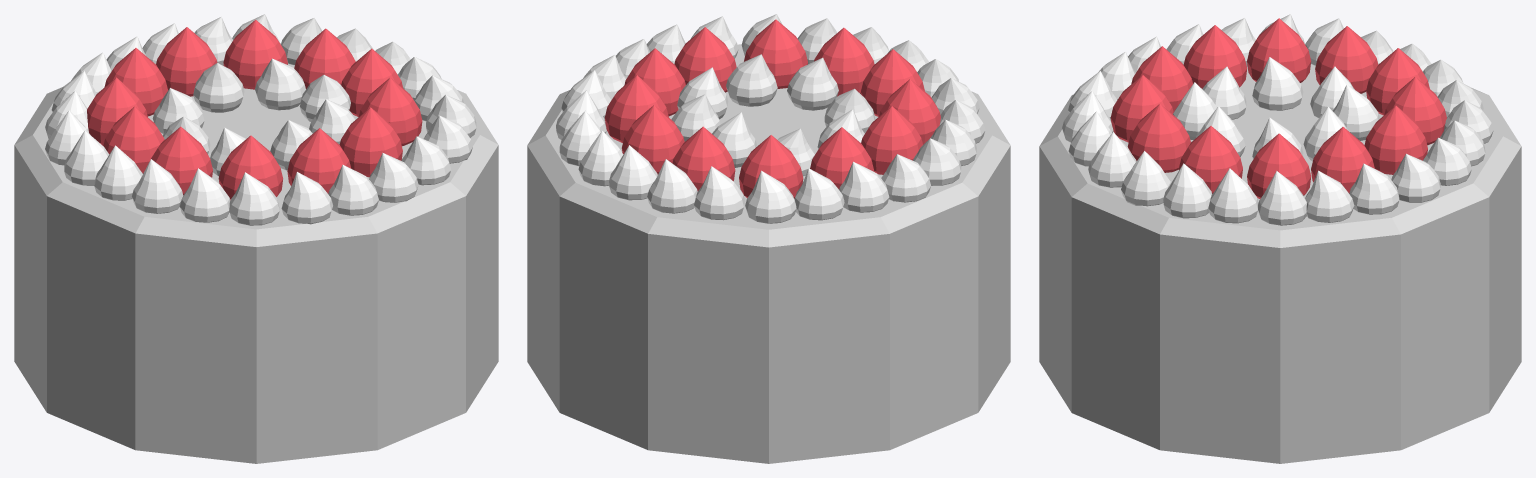
The model's file is cake.glb.
3 views of the same model, side by side, from view 1: azimuth 30°, elevation 25°; view 2: azimuth 150°, elevation 25°; view 3: azimuth 270°, elevation 25° (orthographic).
Parts seen in each view (by area): view 1: New_Game_Object, New_Game_Object_Clone__Clone__Clone__Clone__Clone__Clon_f37. (×3), New_Game_Object_Clone__Clone__Clone__Clone__Clone__Clon_852. (×2), New_Game_Object_Clone__Clone__Clone_.005, New_Game_Object_Clone__Clone__Clone_.002, New_Game_Object_Clone__Clone__Clone__Clone_.002, New_Game_Object_Clone__Clone__Clone_.003, New_Game_Object_Clone__Clone_.003, New_Game_Object_Clone__Clone_.004, New_Game_Object_Clone__Clone_.002, New_Game_Object_Clone__Clone__Clone__Clone__Clone_.002, New_Game_Object_Clone__Clone__Clone__Clone_.003 (+27 smaller); view 2: New_Game_Object, New_Game_Object_Clone__Clone__Clone__Clone__Clone__Clon_f37. (×3), New_Game_Object_Clone__Clone_.002, New_Game_Object_Clone__Clone__Clone__Clone__Clone__Clon_8b1. (×2), New_Game_Object_Clone__Clone__Clone__Clone_.002, New_Game_Object_Clone__Clone__Clone_.005, New_Game_Object_Clone__Clone__Clone__Clone_.004, New_Game_Object_Clone__Clone_.003, New_Game_Object_Clone__Clone_.004, New_Game_Object_Clone__Clone__Clone_.002, New_Game_Object_Clone__Clone__Clone__Clone__Clone__Clon_852. (×2), New_Game_Object_Clone__Clone__Clone__Clone__Clone_.002 (+28 smaller); view 3: New_Game_Object, New_Game_Object_Clone__Clone__Clone__Clone__Clone__Clon_f37. (×3), New_Game_Object_Clone__Clone__Clone__Clone_.002, New_Game_Object_Clone__Clone__Clone_.005, New_Game_Object_Clone__Clone__Clone_.004, New_Game_Object_Clone__Clone_.002, New_Game_Object_Clone__Clone__Clone__Clone_.003, New_Game_Object_Clone_.002, New_Game_Object_Clone__Clone_.004, New_Game_Object_Clone__Clone__Clone__Clone__Clone_.002, New_Game_Object_Clone__Clone__Clone__Clone__Clone__Clon_852. (×2), New_Game_Object_Clone__Clone__Clone_.002 (+27 smaller).
Part boxes in pixels (<box>): New_Game_Object: <box>14,43,498,463</box>; New_Game_Object_Clone__Clone__Clone__Clone__Clone__Clon_f37. (×3): <box>162,63,355,153</box>; New_Game_Object_Clone__Clone__Clone__Clone__Clone__Clon_852. (×2): <box>152,58,305,133</box>; New_Game_Object_Clone__Clone__Clone_.005: <box>339,107,402,177</box>; New_Game_Object_Clone__Clone__Clone_.002: <box>156,27,217,96</box>; New_Game_Object_Clone__Clone__Clone__Clone_.002: <box>223,19,287,89</box>; New_Game_Object_Clone__Clone__Clone_.003: <box>218,135,283,199</box>; New_Game_Object_Clone__Clone_.003: <box>287,128,351,193</box>; New_Game_Object_Clone__Clone_.004: <box>359,77,422,146</box>; New_Game_Object_Clone__Clone_.002: <box>103,106,164,173</box>; New_Game_Object_Clone__Clone__Clone__Clone__Clone_.002: <box>294,28,355,88</box>; New_Game_Object_Clone__Clone__Clone__Clone_.003: <box>151,126,212,195</box>; New_Game_Object: <box>527,44,1010,463</box>; New_Game_Object_Clone__Clone__Clone__Clone__Clone__Clon_f37. (×3): <box>712,54,864,167</box>; New_Game_Object_Clone__Clone_.002: <box>861,106,922,174</box>; New_Game_Object_Clone__Clone__Clone__Clone__Clone__Clon_8b1. (×2): <box>677,67,874,133</box>; New_Game_Object_Clone__Clone__Clone__Clone_.002: <box>621,105,684,174</box>; New_Game_Object_Clone__Clone__Clone_.005: <box>744,19,807,88</box>; New_Game_Object_Clone__Clone__Clone__Clone_.004: <box>739,135,803,198</box>; New_Game_Object_Clone__Clone_.003: <box>814,27,874,96</box>; New_Game_Object_Clone__Clone_.004: <box>674,27,736,92</box>; New_Game_Object_Clone__Clone__Clone_.002: <box>672,126,735,191</box>; New_Game_Object_Clone__Clone__Clone__Clone__Clone__Clon_852. (×2): <box>671,94,814,176</box>; New_Game_Object_Clone__Clone__Clone__Clone__Clone_.002: <box>604,75,668,142</box>; New_Game_Object: <box>1039,64,1521,463</box>; New_Game_Object_Clone__Clone__Clone__Clone__Clone__Clon_f37. (×3): <box>1195,57,1379,156</box>; New_Game_Object_Clone__Clone__Clone__Clone_.002: <box>1364,105,1427,174</box>; New_Game_Object_Clone__Clone__Clone_.005: <box>1127,104,1190,172</box>; New_Game_Object_Clone__Clone__Clone_.004: <box>1315,26,1378,93</box>; New_Game_Object_Clone__Clone_.002: <box>1247,18,1311,82</box>; New_Game_Object_Clone__Clone__Clone__Clone_.003: <box>1183,25,1247,88</box>; New_Game_Object_Clone_.002: <box>1247,133,1311,198</box>; New_Game_Object_Clone__Clone_.004: <box>1179,126,1242,193</box>; New_Game_Object_Clone__Clone__Clone__Clone__Clone_.002: <box>1311,127,1374,193</box>; New_Game_Object_Clone__Clone__Clone__Clone__Clone__Clon_852. (×2): <box>1303,66,1354,161</box>; New_Game_Object_Clone__Clone__Clone_.002: <box>1384,77,1446,145</box>.
Bounding box in the file's own units: 1.07 × 0.6974 × 1.07.
